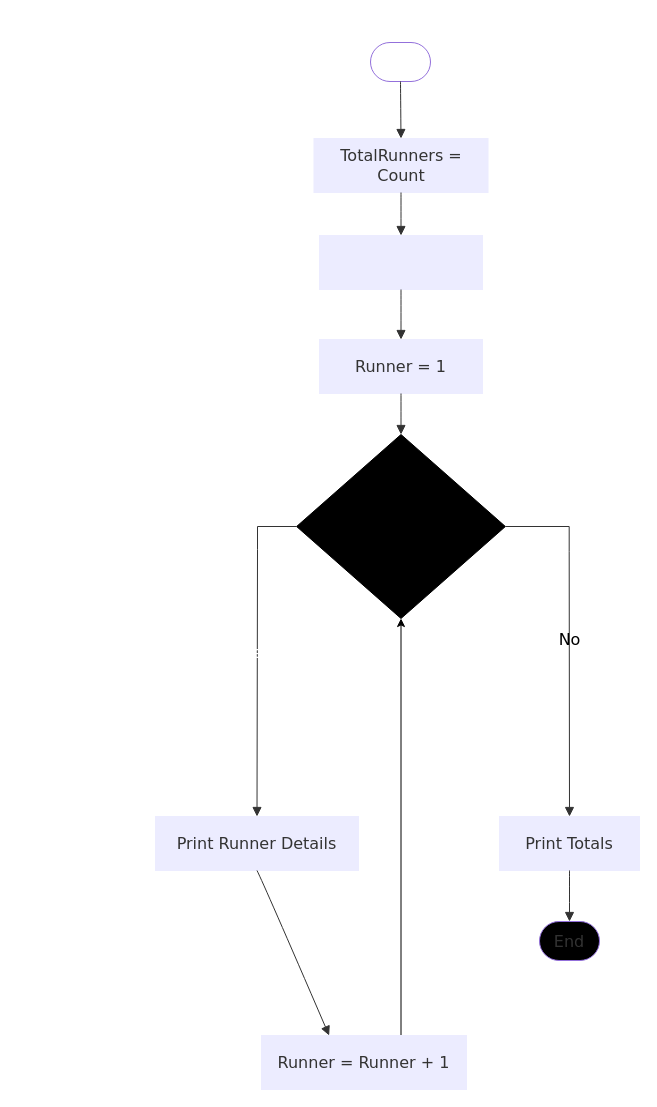
Some shapes in this 657 by 1107 pixel diagram are drawn without their labels. The centre of each missing label's shape, as x and y in pixels:
Print Headings: (x=400, y=262)
Runner <= TotalRunners?: (x=400, y=526)
Start: (x=400, y=62)
